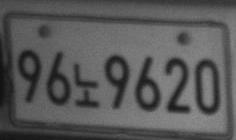0: (194, 57, 220, 114)
2: (164, 57, 190, 113)
6: (134, 56, 161, 111), (45, 52, 71, 105)
9: (104, 54, 129, 109), (17, 48, 41, 102)
노: (72, 63, 99, 106)
